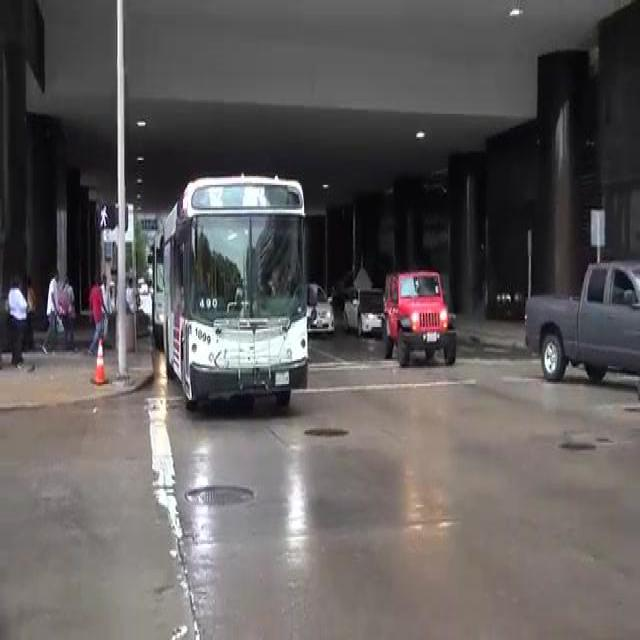motorcycle: (162, 174, 307, 400)
